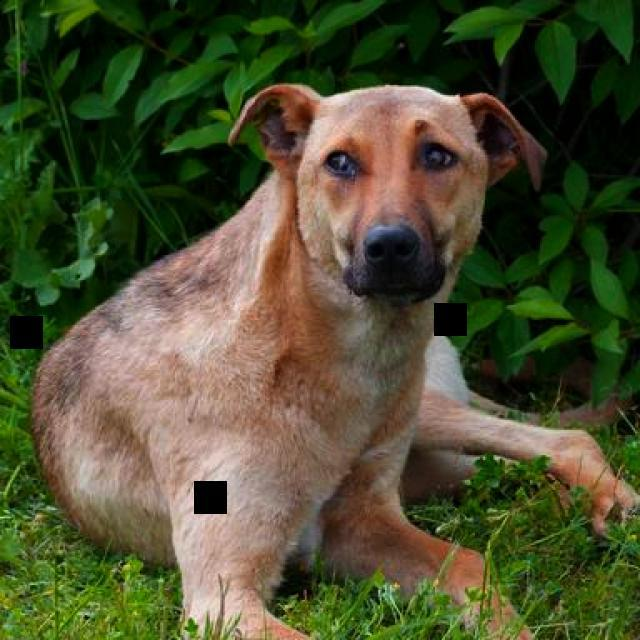adult_dog: (34, 86, 640, 639)
